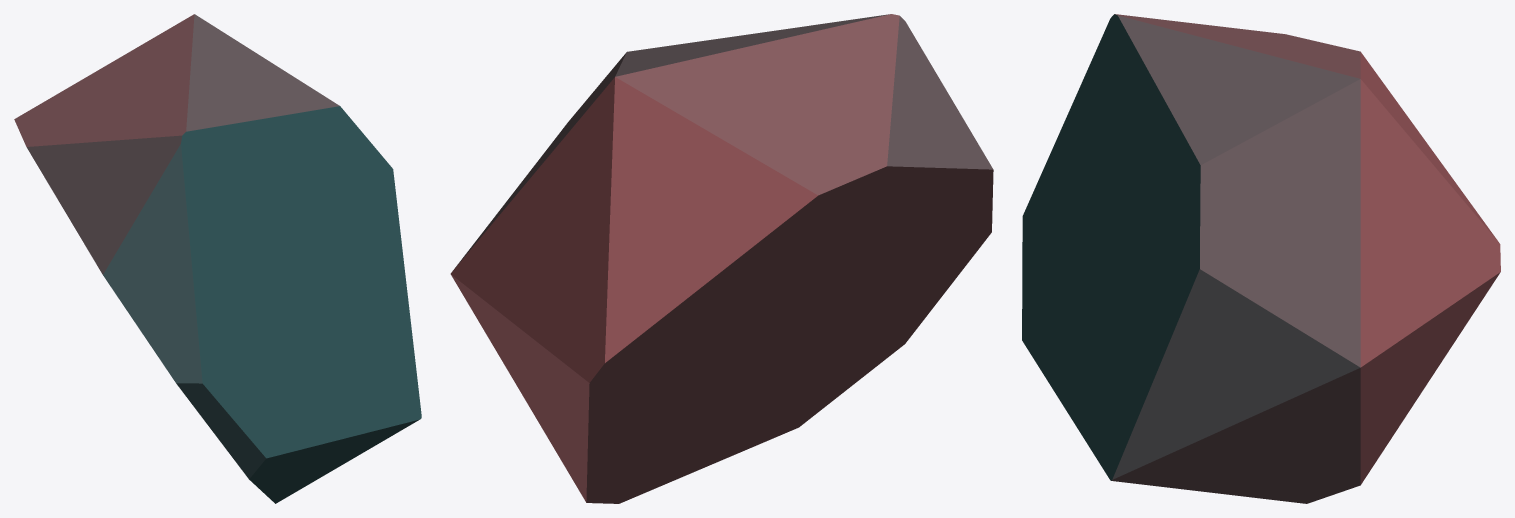
File: gemstone_anim_10_5_neg10.glb
The picture shows the model from 3 angles, left to right: view 1: azimuth 30°, elevation 25°; view 2: azimuth 150°, elevation 25°; view 3: azimuth 270°, elevation 25°; orthographic projection. The views are drawn at different scales.
Visible parts, largest first — view 1: gemstone_anim_10_5_neg10; view 2: gemstone_anim_10_5_neg10; view 3: gemstone_anim_10_5_neg10.
Part boxes in pixels (left/top/right/bottom): gemstone_anim_10_5_neg10: left=14, top=14, right=421, bottom=503; gemstone_anim_10_5_neg10: left=450, top=14, right=993, bottom=503; gemstone_anim_10_5_neg10: left=1022, top=14, right=1500, bottom=503.
Bounding box in the file's own units: 1611 × 1727 × 1812.
